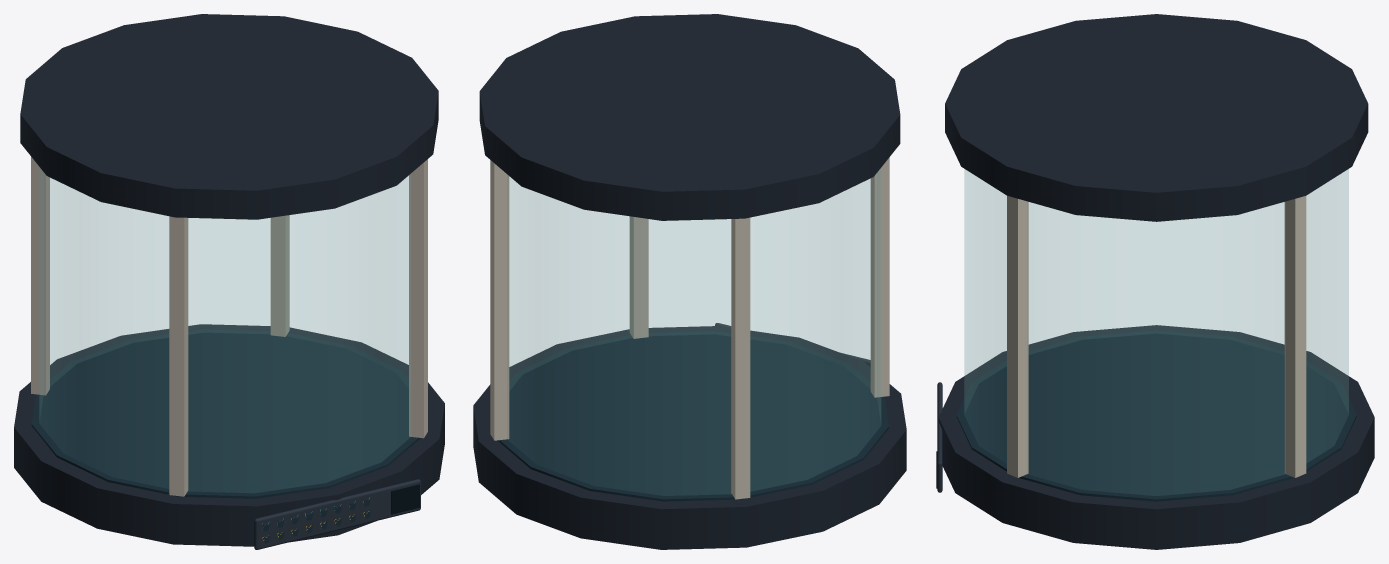
File: camara_captura.glb
3 views of the same model, side by side, from view 1: azimuth 30°, elevation 25°; view 2: azimuth 150°, elevation 25°; view 3: azimuth 270°, elevation 25° (orthographic).
Parts seen in each view (by area): view 1: tubo_malha, vidro; view 2: tubo_malha, vidro; view 3: tubo_malha, vidro.
Boxes of the visible parts, box(x1,y1,x2,y2) form: tubo_malha: box(14, 14, 444, 549); vidro: box(39, 167, 410, 492); tubo_malha: box(473, 14, 906, 549); vidro: box(507, 169, 880, 495); tubo_malha: box(936, 14, 1374, 549); vidro: box(964, 169, 1348, 495).
Size of the model in its own units: 3.4 by 3.05 by 3.43.
